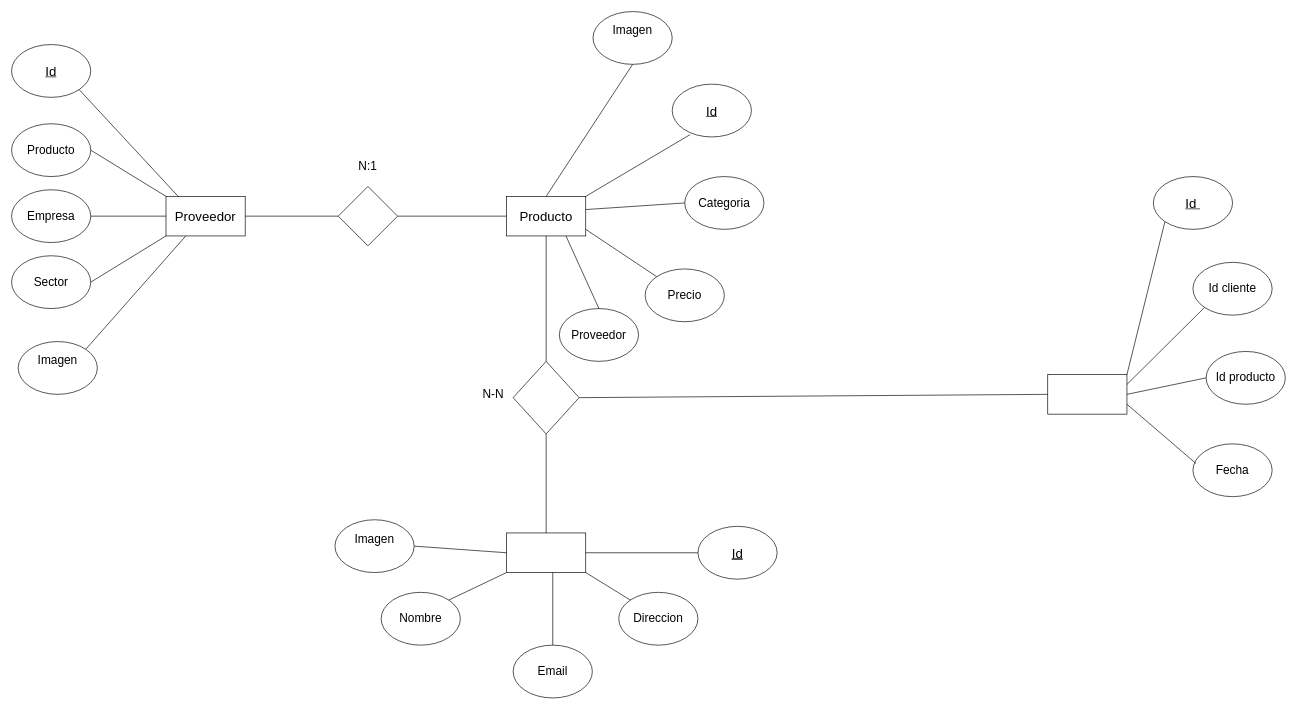
Some shapes in this 1297 by 710 pixel diagram are drawn without their labels. The shapes that lost their labels are listed below. From the top down, each one's centre as x and y in pixels, then its label:
the point at 368,216: Enviar
the point at 545,397: Compra
the point at 1087,394: Ventas
the point at 546,552: Cliente
